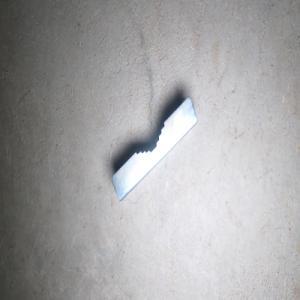ClampPart: (111, 95, 198, 202)
